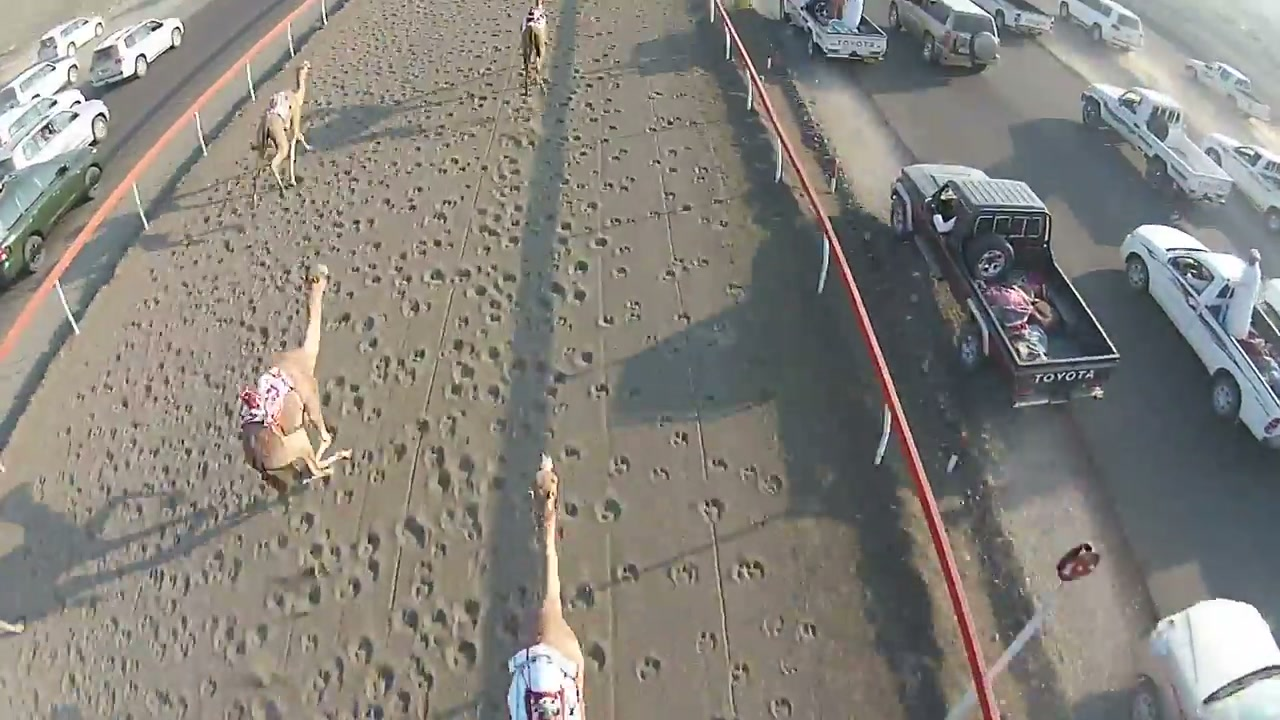animal_footprint: (22, 0, 797, 716), (365, 663, 396, 698), (398, 515, 429, 549), (445, 639, 478, 670), (667, 560, 699, 585), (567, 582, 595, 610), (348, 636, 375, 665), (732, 558, 764, 582), (700, 497, 725, 524), (584, 642, 607, 671), (635, 656, 661, 681), (596, 498, 622, 522), (756, 473, 784, 495), (768, 697, 794, 719), (695, 631, 719, 654), (761, 615, 786, 637), (399, 607, 420, 632), (613, 563, 639, 583), (796, 621, 817, 642), (730, 662, 750, 684), (610, 455, 630, 475), (671, 430, 689, 447), (651, 466, 670, 482), (709, 458, 728, 471)
